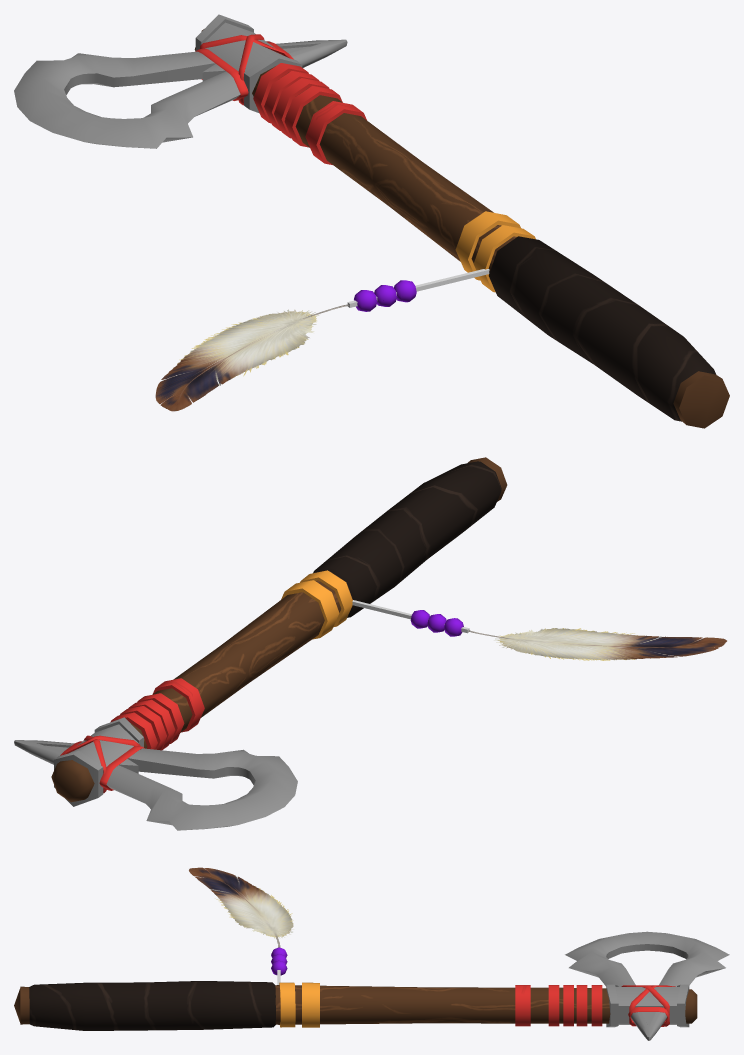
File: model-ac3-connor-tomahawk.glb
3 views of the same model, one above another, from view 1: azimuth 30°, elevation 25°; view 2: azimuth 150°, elevation 25°; view 3: azimuth 270°, elevation 25° (orthographic). The views are drawn at different scales.
Visible parts, largest first — view 1: handle.001, feather_PNG12983; view 2: handle.001, feather_PNG12983; view 3: handle.001, feather_PNG12983.
Boxes of the visible parts, <box> form: handle.001: <box>14,14,729,428</box>; feather_PNG12983: <box>155,304,349,411</box>; handle.001: <box>14,457,507,830</box>; feather_PNG12983: <box>468,628,726,660</box>; handle.001: <box>14,931,729,1040</box>; feather_PNG12983: <box>189,867,293,947</box>.
Bounding box in the file's own units: 205 × 25.08 × 344.
2 materials, 2 textured.
